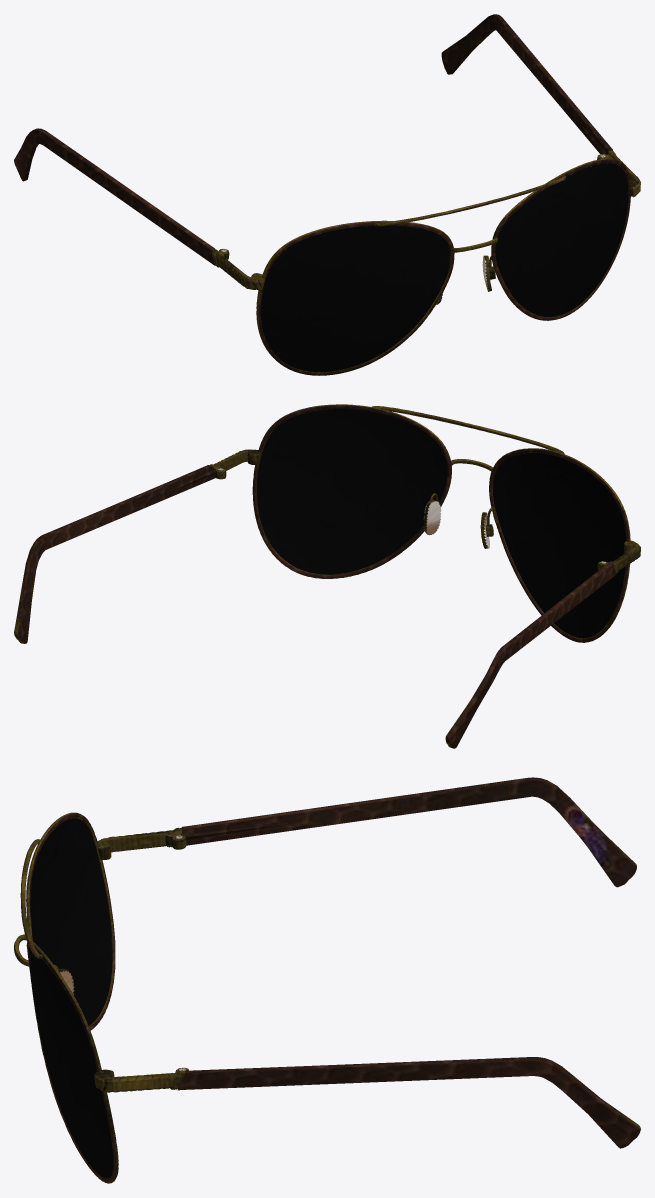
Rendered from mhw_elvs_ladies_sunglass1.glb.
The picture shows the model from 3 angles, top to bottom: view 1: azimuth 30°, elevation 25°; view 2: azimuth 150°, elevation 25°; view 3: azimuth 270°, elevation 25°; orthographic projection. The views are drawn at different scales.
Visible parts, largest first — view 1: mhw_elvs_ladies_sunglass1; view 2: mhw_elvs_ladies_sunglass1; view 3: mhw_elvs_ladies_sunglass1.
Boxes of the visible parts, bbox=[...] form: mhw_elvs_ladies_sunglass1: bbox=[14, 14, 640, 375]; mhw_elvs_ladies_sunglass1: bbox=[14, 404, 640, 748]; mhw_elvs_ladies_sunglass1: bbox=[14, 777, 640, 1183].
Size of the model in its own units: 0.1597 by 0.0538 by 0.1483.
1 material, 1 textured.
